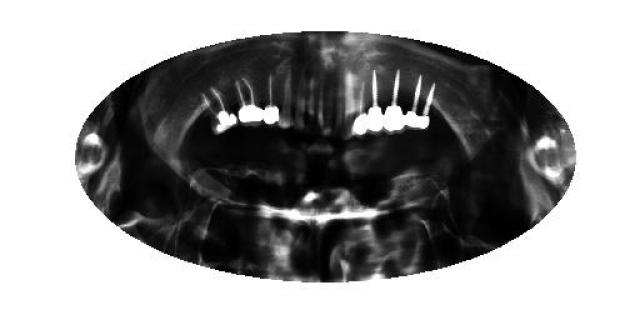Implant: (405, 74, 437, 130), (202, 86, 238, 135), (235, 75, 265, 127), (383, 66, 405, 136), (363, 69, 382, 136), (351, 76, 369, 136), (264, 75, 280, 127)
